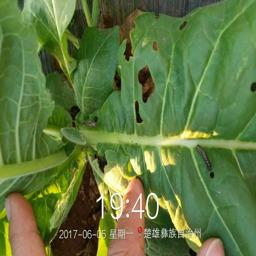Tobacco_budworm: (194, 143, 214, 170)
